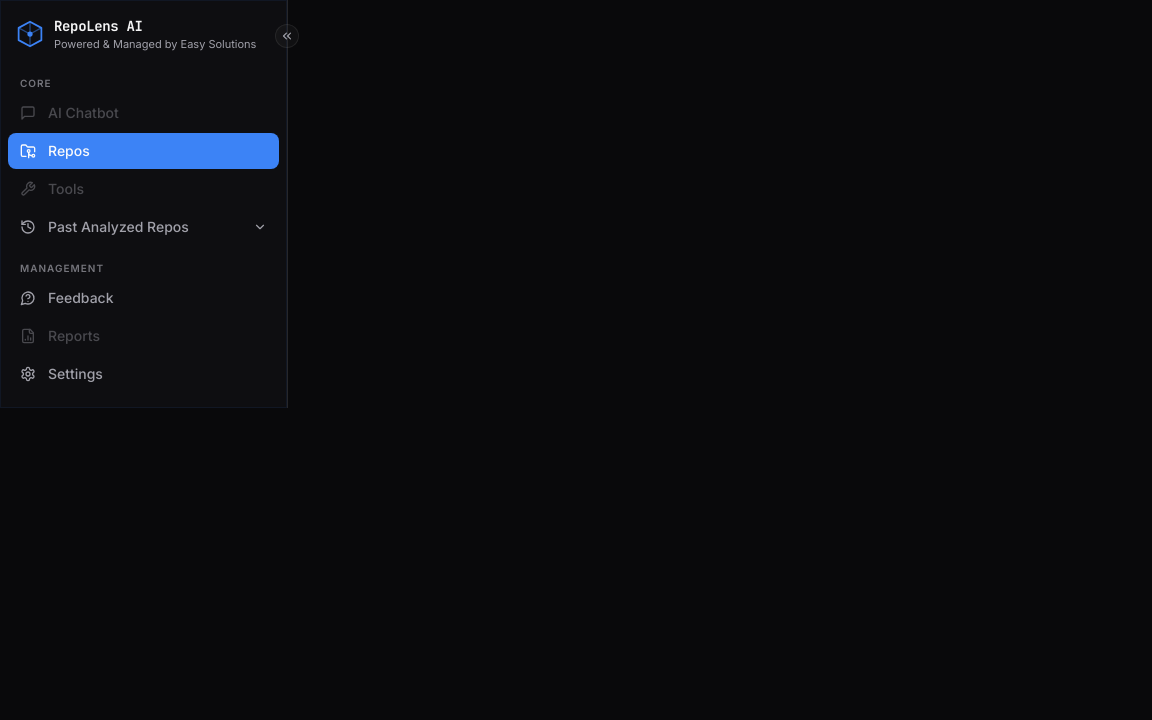
Test: AppSidebar › opens the Feedback modal from anywhere, regardless of an active repo
Click the button "Feedback" at (81, 297), box x1=8 y1=280 x2=279 y2=316
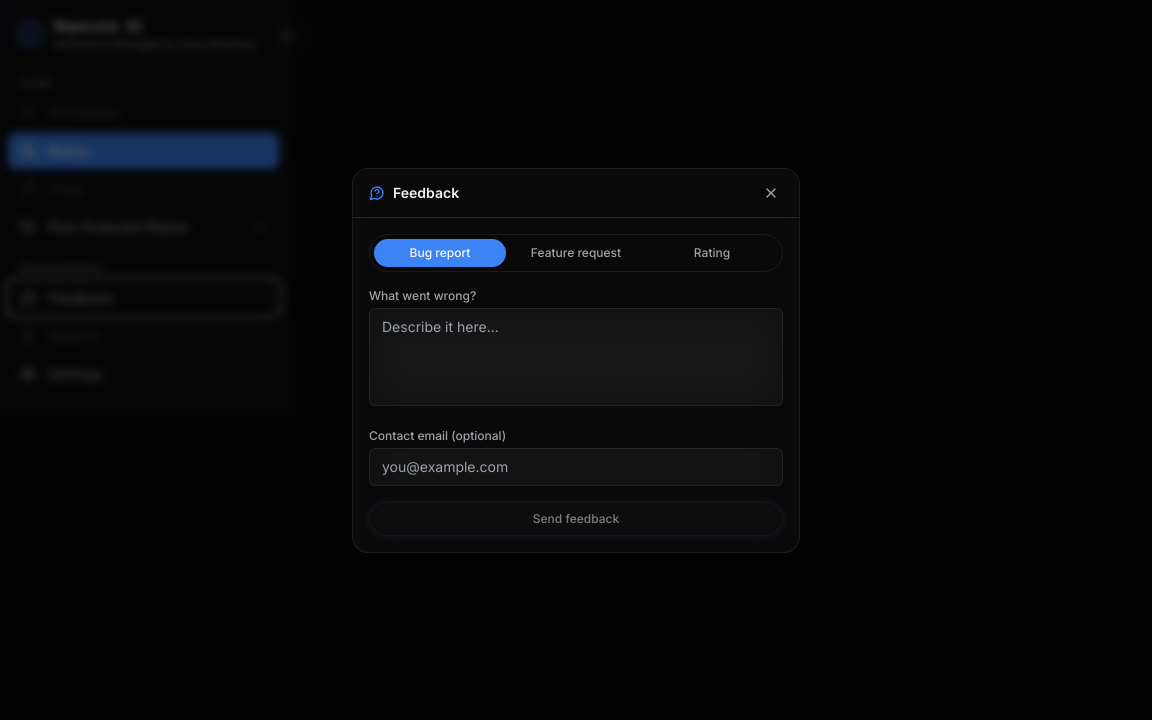
Now the dialog "Feedback" is shown, box x1=352 y1=168 x2=800 y2=552
